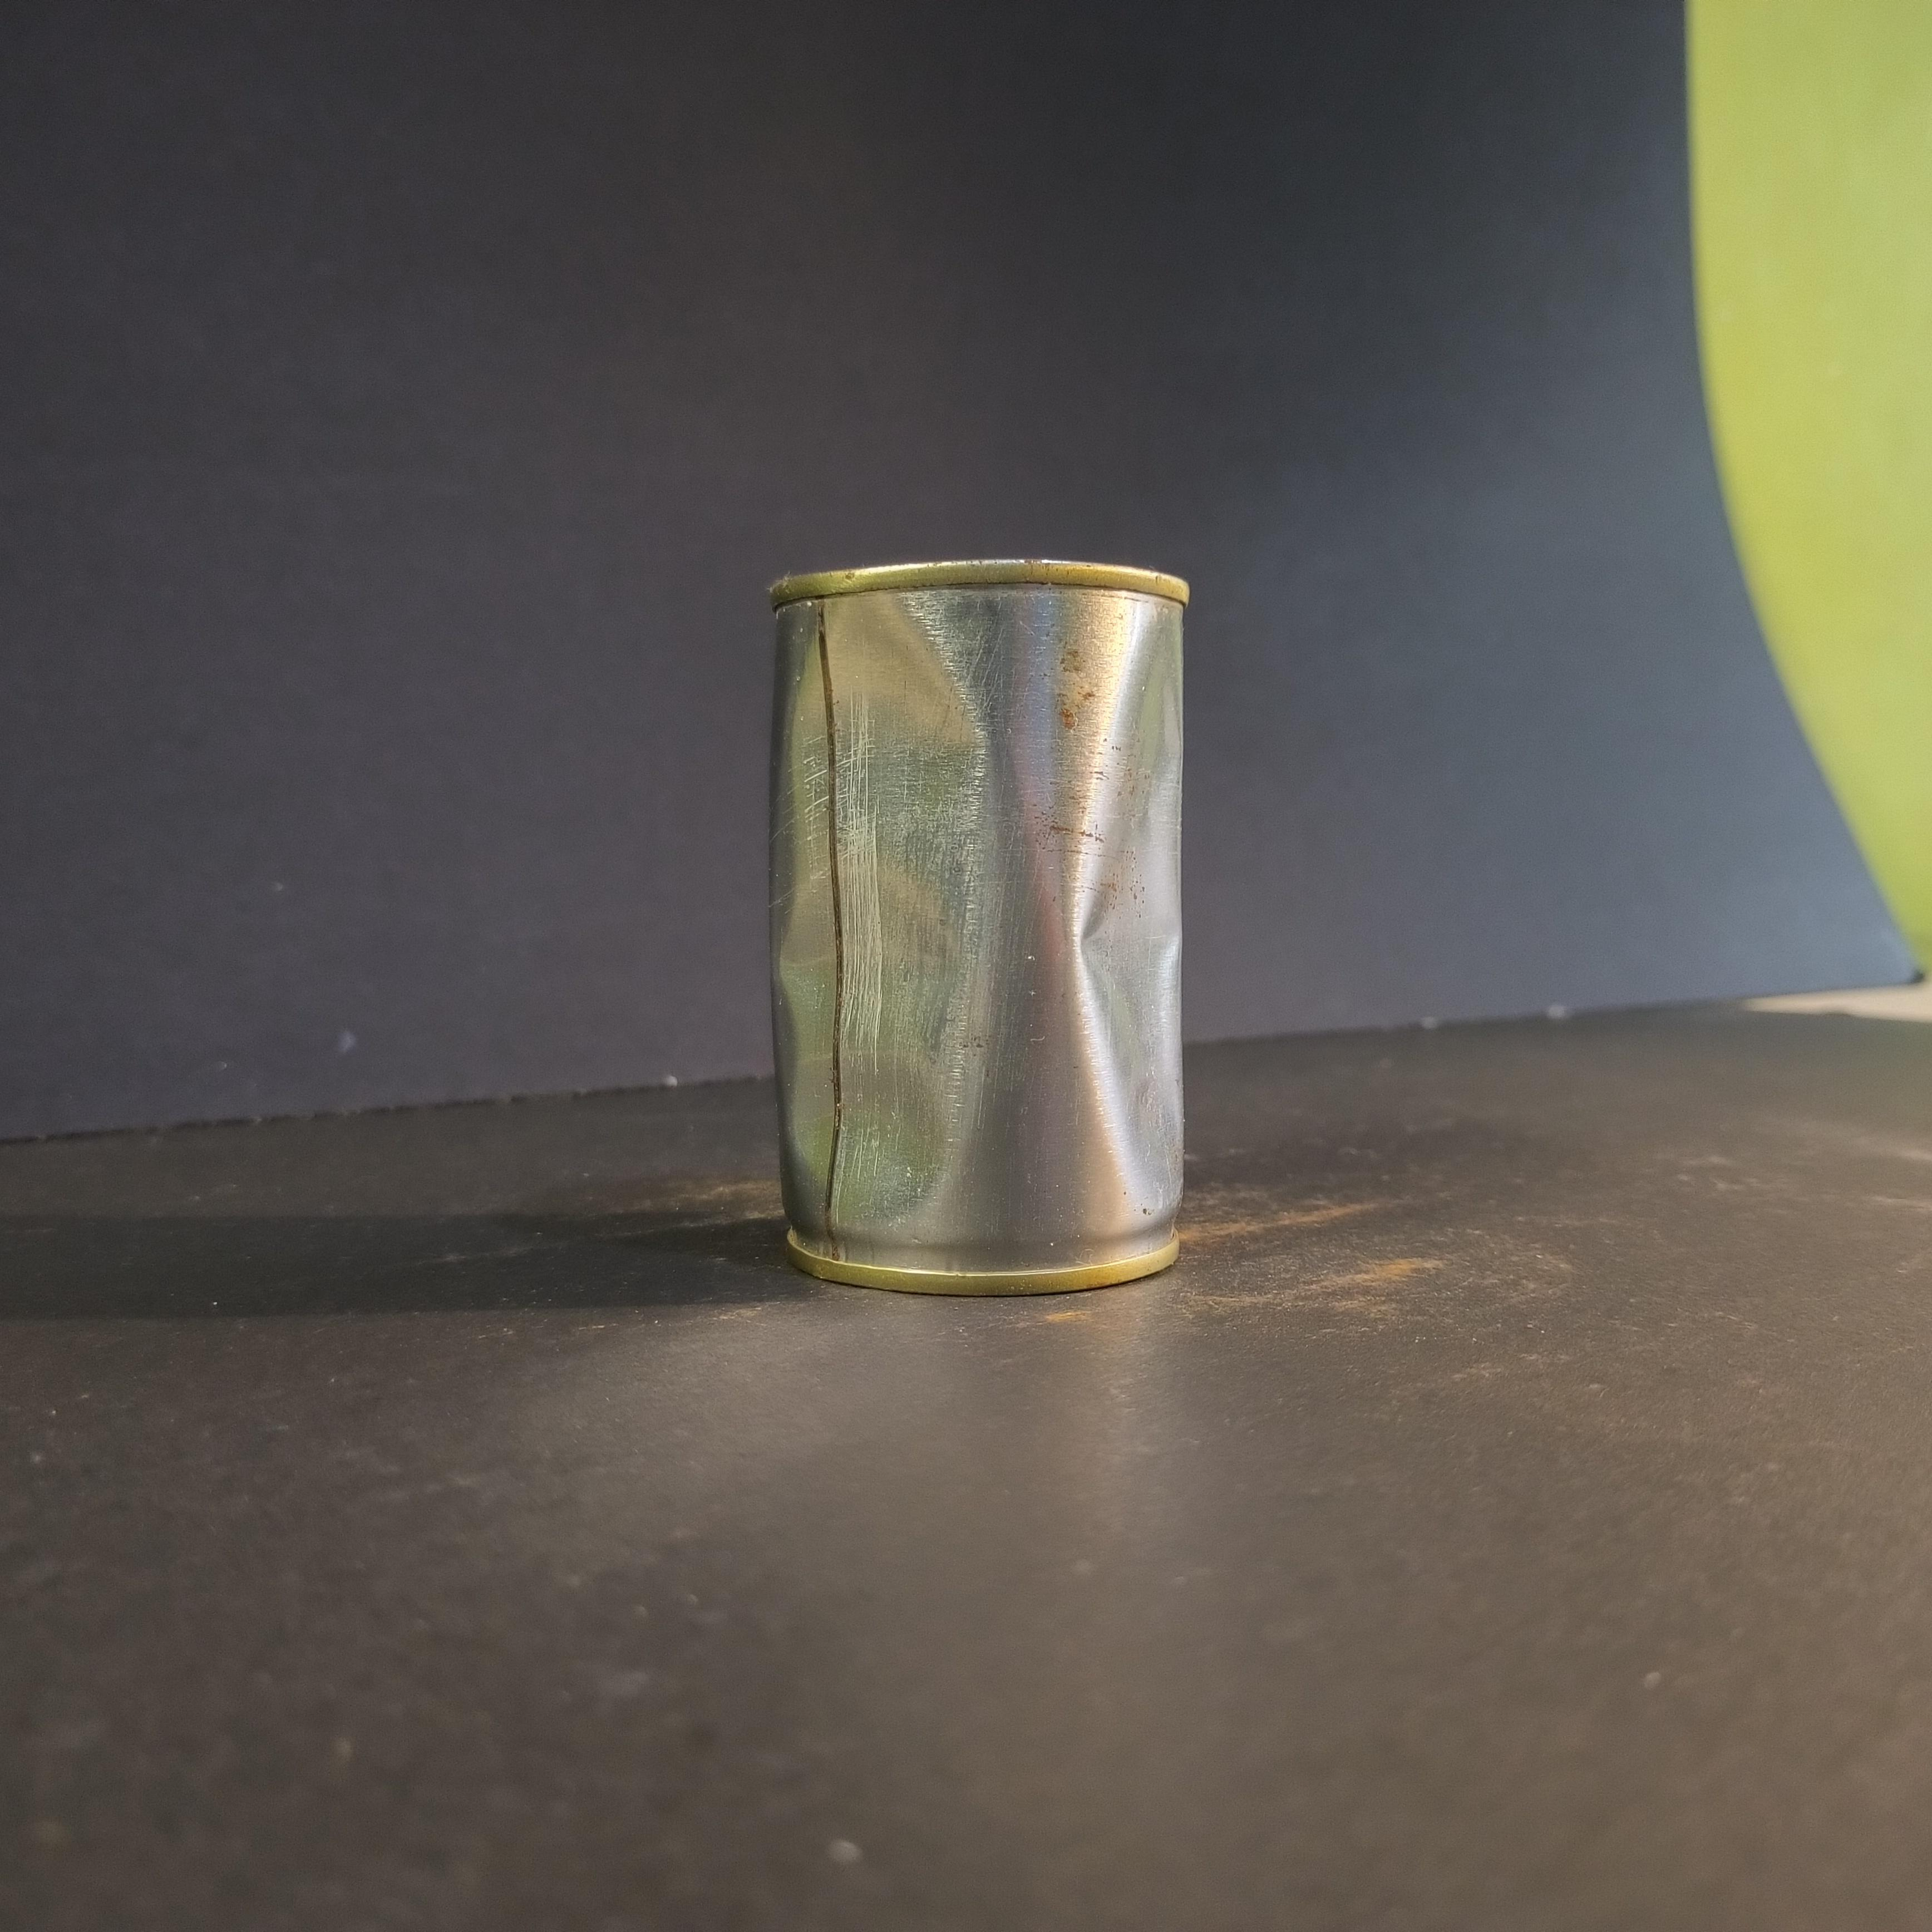Dented: (738, 534, 1210, 1325)
